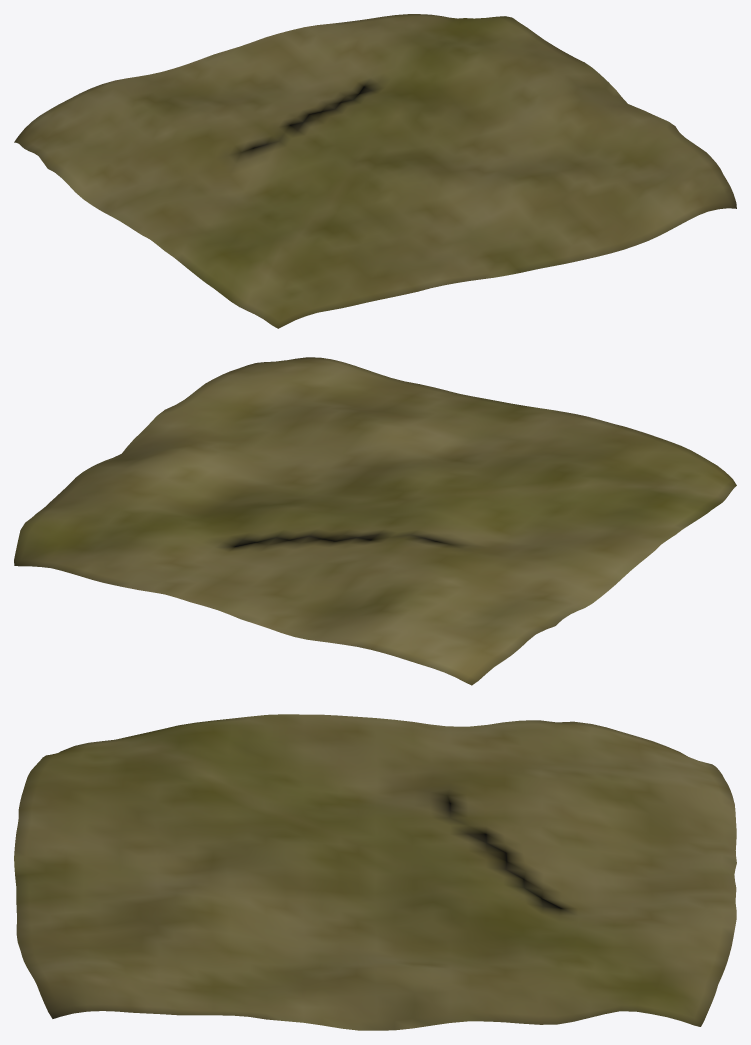
The model's file is example_terrain.gltf.
The picture shows the model from 3 angles, top to bottom: view 1: azimuth 30°, elevation 25°; view 2: azimuth 150°, elevation 25°; view 3: azimuth 270°, elevation 25°; orthographic projection. The views are drawn at different scales.
Parts seen in each view (by area): view 1: ground_Baked; view 2: ground_Baked; view 3: ground_Baked.
Part boxes in pixels (x1=…): ground_Baked: x1=14, y1=14, x2=736, y2=328; ground_Baked: x1=14, y1=357, x2=736, y2=685; ground_Baked: x1=14, y1=714, x2=736, y2=1030.
Bounding box in the file's own units: 49.38 × 3.5 × 49.37.
